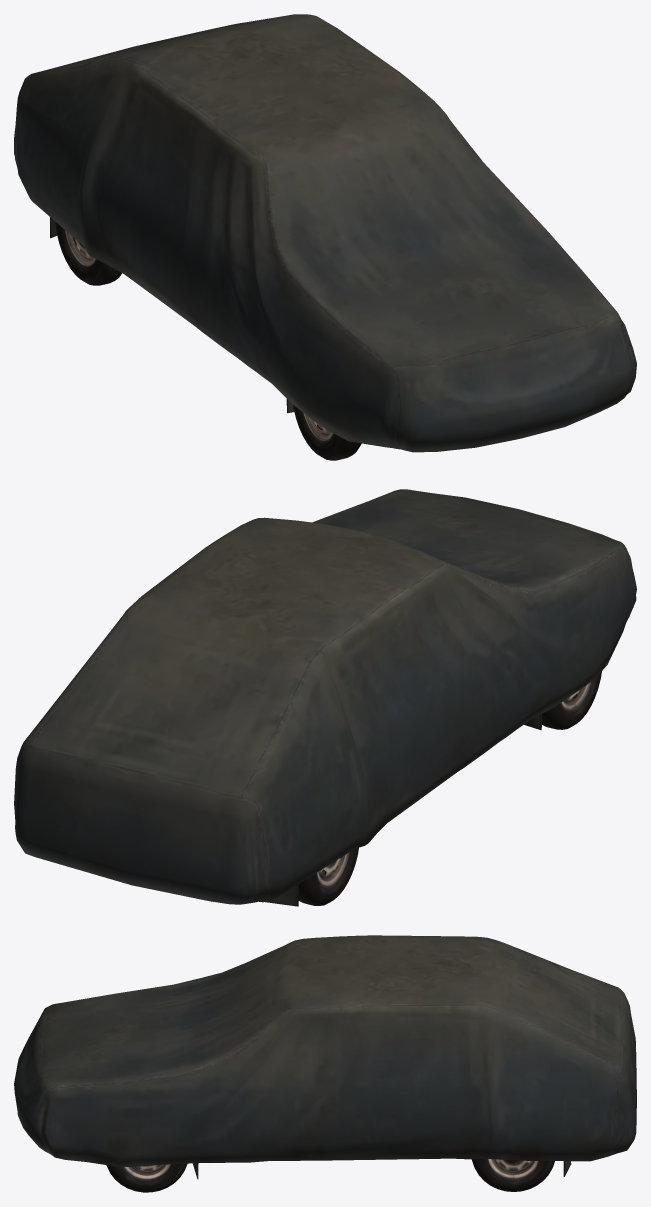
The model's file is covered_car.glb.
3 views of the same model, one above another, from view 1: azimuth 30°, elevation 25°; view 2: azimuth 150°, elevation 25°; view 3: azimuth 270°, elevation 25° (orthographic). The views are drawn at different scales.
Visible parts, largest first — view 1: covered_car_wheel_01; view 2: covered_car_wheel_01; view 3: covered_car_wheel_01.
Boxes of the visible parts, bbox=[...] form: covered_car_wheel_01: bbox=[14, 14, 636, 460]; covered_car_wheel_01: bbox=[14, 489, 636, 906]; covered_car_wheel_01: bbox=[14, 935, 636, 1192].
Size of the model in its own units: 1.79 by 1.41 by 4.38.
1 material, 1 textured.
